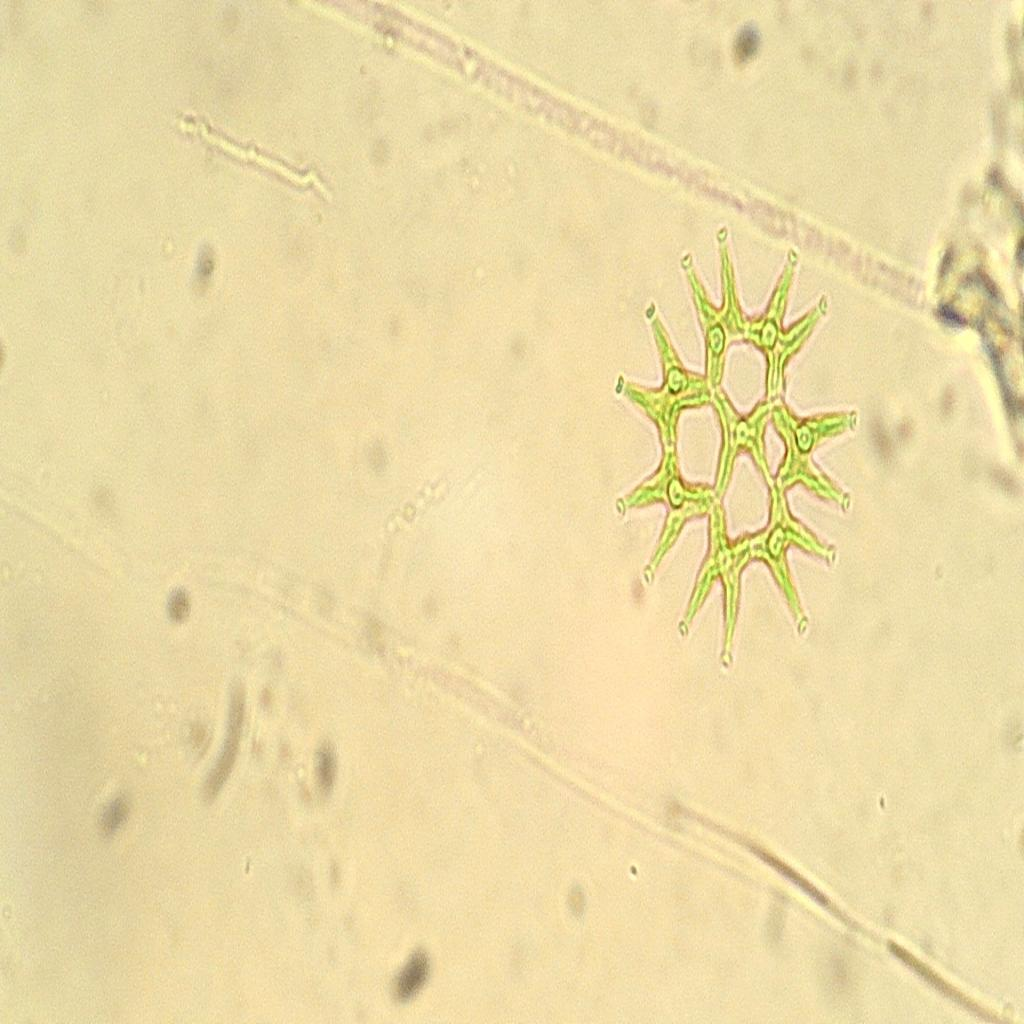Pediastrum_75T: (603, 211, 870, 680)
